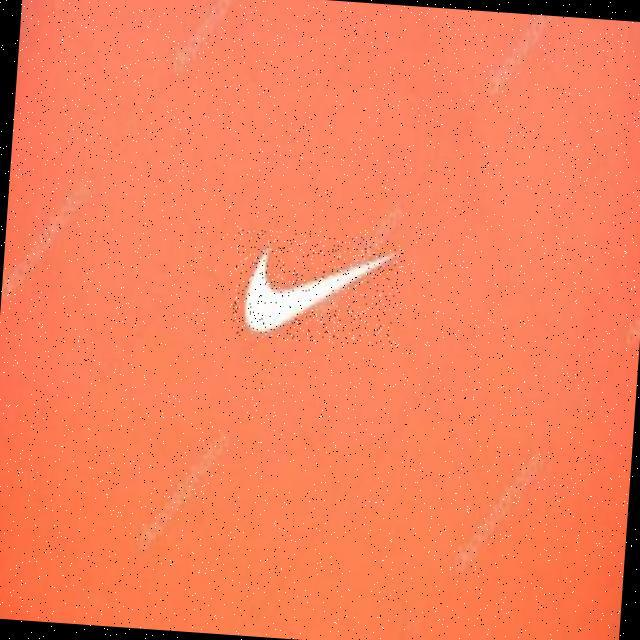Nike: (230, 229, 406, 348)
